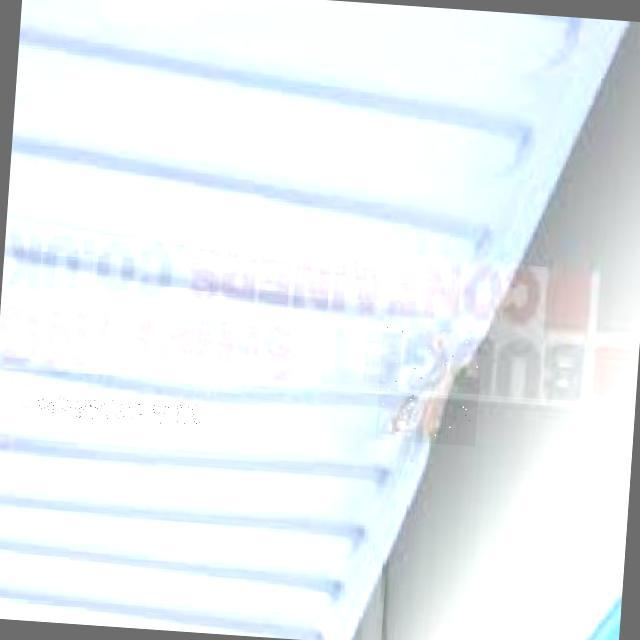Deframe: (375, 324, 483, 446)
Minor-Dent: (37, 395, 202, 426)
